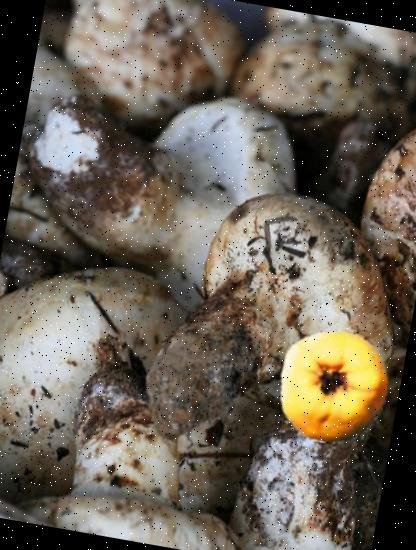Quince: (267, 318, 403, 454)
